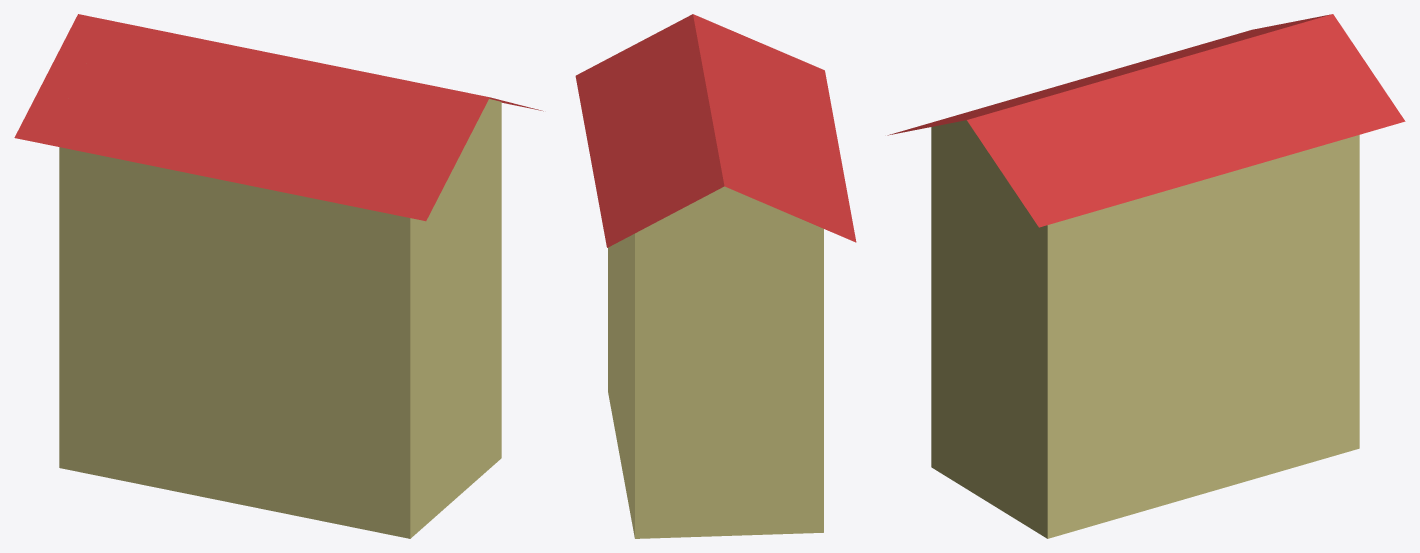
The picture shows the model from 3 angles, left to right: view 1: azimuth 30°, elevation 25°; view 2: azimuth 150°, elevation 25°; view 3: azimuth 270°, elevation 25°; orthographic projection. The views are drawn at different scales.
Bounding box in the file's own units: 7.22 × 7.9 × 6.6.
